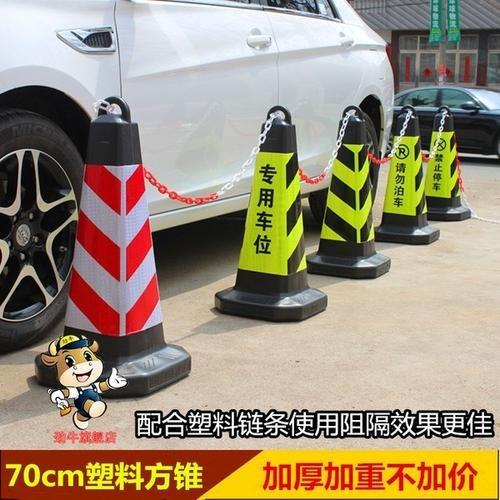cone_barrel: (57, 97, 191, 398), (214, 106, 326, 323), (311, 105, 386, 277), (373, 109, 431, 234), (420, 107, 469, 213)
